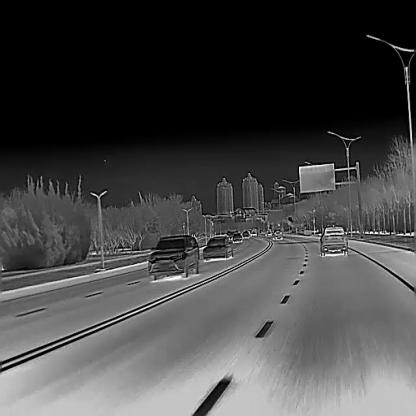car: (147, 234, 199, 281), (318, 223, 347, 256), (202, 234, 233, 260), (272, 228, 282, 240), (232, 232, 242, 242), (264, 228, 272, 236), (242, 230, 249, 238), (250, 230, 257, 236)
